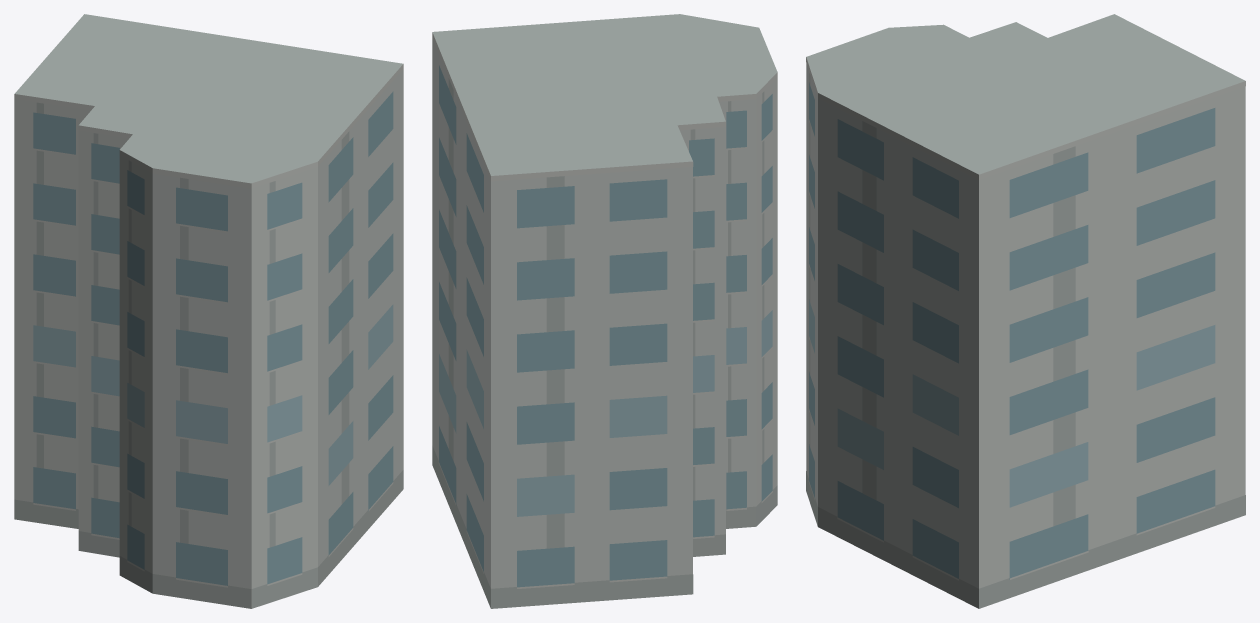
Rendered from survey-upis-32838859.glb.
The picture shows the model from 3 angles, left to right: view 1: azimuth 30°, elevation 25°; view 2: azimuth 150°, elevation 25°; view 3: azimuth 270°, elevation 25°; orthographic projection. The views are drawn at different scales.
Parts seen in each view (by area): view 1: survey-upis-32838859.tmp; view 2: survey-upis-32838859.tmp; view 3: survey-upis-32838859.tmp.
Part boxes in pixels (<box>): survey-upis-32838859.tmp: <box>14,14,403,608</box>; survey-upis-32838859.tmp: <box>432,14,777,608</box>; survey-upis-32838859.tmp: <box>806,14,1245,608</box>.
Bounding box in the file's own units: 15.57 × 19.6 × 17.99.
